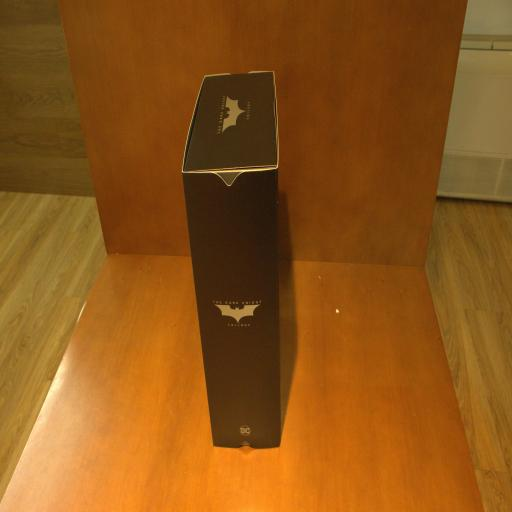catwoman: (181, 70, 282, 450)
